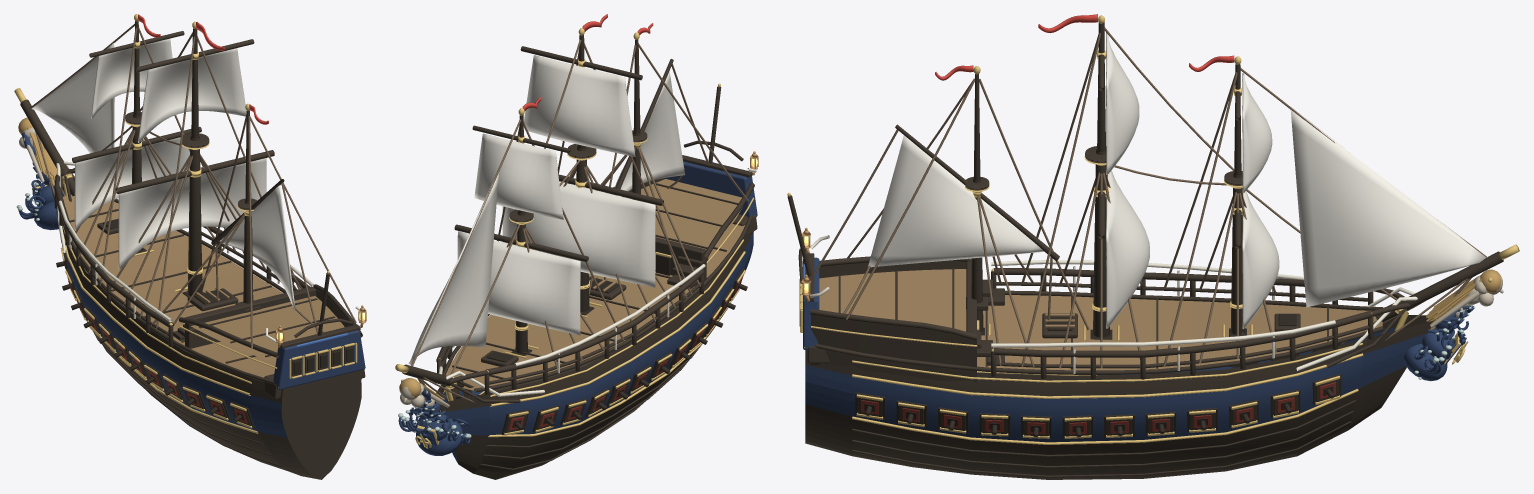
File: frigate_france.glb
3 views of the same model, side by side, from view 1: azimuth 30°, elevation 25°; view 2: azimuth 150°, elevation 25°; view 3: azimuth 270°, elevation 25° (orthographic). The views are drawn at different scales.
Visible parts, largest first — view 1: HullMesh, Deck, Sail_Main_Course, Sail_Main_Topsail, Sterncastle, Railings, Sail_Fore_Course, Sail_Bowsprit, Sail_Mizzen_Lateen, Gunports, Rigging_Mizzen, Rigging_Main (+12 smaller); view 2: HullMesh, Deck, Sail_Main_Course, Sail_Main_Topsail, Sail_Fore_Course, Sail_Bowsprit, Railings, Sail_Fore_Topsail, Gunports, Sterncastle, Sail_Mizzen_Lateen, Rigging_Mizzen (+12 smaller); view 3: HullMesh, Deck, Sail_Bowsprit, Railings, Sail_Mizzen_Lateen, Gunports, Sail_Main_Course, Rigging_Main, Rigging_Mizzen, Rigging_Fore, Sail_Fore_Course, Sail_Main_Topsail (+7 smaller).
Part boxes in pixels (bbox=[...]): HullMesh: bbox=[16, 117, 361, 479]; Deck: bbox=[63, 194, 350, 383]; Sail_Main_Course: bbox=[118, 158, 266, 269]; Sail_Main_Topsail: bbox=[138, 48, 246, 142]; Sterncastle: bbox=[264, 270, 366, 400]; Railings: bbox=[54, 161, 362, 368]; Sail_Fore_Course: bbox=[74, 137, 189, 230]; Sail_Bowsprit: bbox=[31, 43, 114, 201]; Sail_Mizzen_Lateen: bbox=[219, 185, 295, 309]; Gunports: bbox=[60, 246, 254, 428]; Rigging_Mizzen: bbox=[150, 114, 356, 348]; Rigging_Main: bbox=[110, 32, 299, 329]; HullMesh: bbox=[398, 232, 753, 479]; Deck: bbox=[443, 178, 752, 392]; Sail_Main_Course: bbox=[502, 181, 655, 287]; Sail_Main_Topsail: bbox=[523, 55, 635, 156]; Sail_Fore_Course: bbox=[457, 231, 580, 335]; Sail_Bowsprit: bbox=[408, 173, 498, 364]; Railings: bbox=[436, 183, 754, 402]; Sail_Fore_Topsail: bbox=[474, 133, 563, 219]; Gunports: bbox=[446, 268, 745, 435]; Sterncastle: bbox=[665, 83, 758, 235]; Sail_Mizzen_Lateen: bbox=[614, 71, 684, 196]; Rigging_Mizzen: bbox=[589, 43, 748, 298]; HullMesh: bbox=[805, 269, 1503, 479]; Deck: bbox=[811, 260, 1383, 383]; Sail_Bowsprit: bbox=[1290, 110, 1486, 307]; Railings: bbox=[810, 256, 1417, 379]; Sail_Mizzen_Lateen: bbox=[868, 135, 1043, 267]; Gunports: bbox=[855, 343, 1341, 438]; Sail_Main_Course: bbox=[1106, 170, 1149, 328]; Rigging_Main: bbox=[1021, 27, 1234, 368]; Rigging_Mizzen: bbox=[812, 78, 1089, 367]; Rigging_Fore: bbox=[1163, 68, 1487, 366]; Sail_Fore_Course: bbox=[1242, 191, 1279, 328]; Sail_Main_Topsail: bbox=[1106, 32, 1139, 174].
Size of the model in its own units: 1.79 by 4.33 by 6.18.
